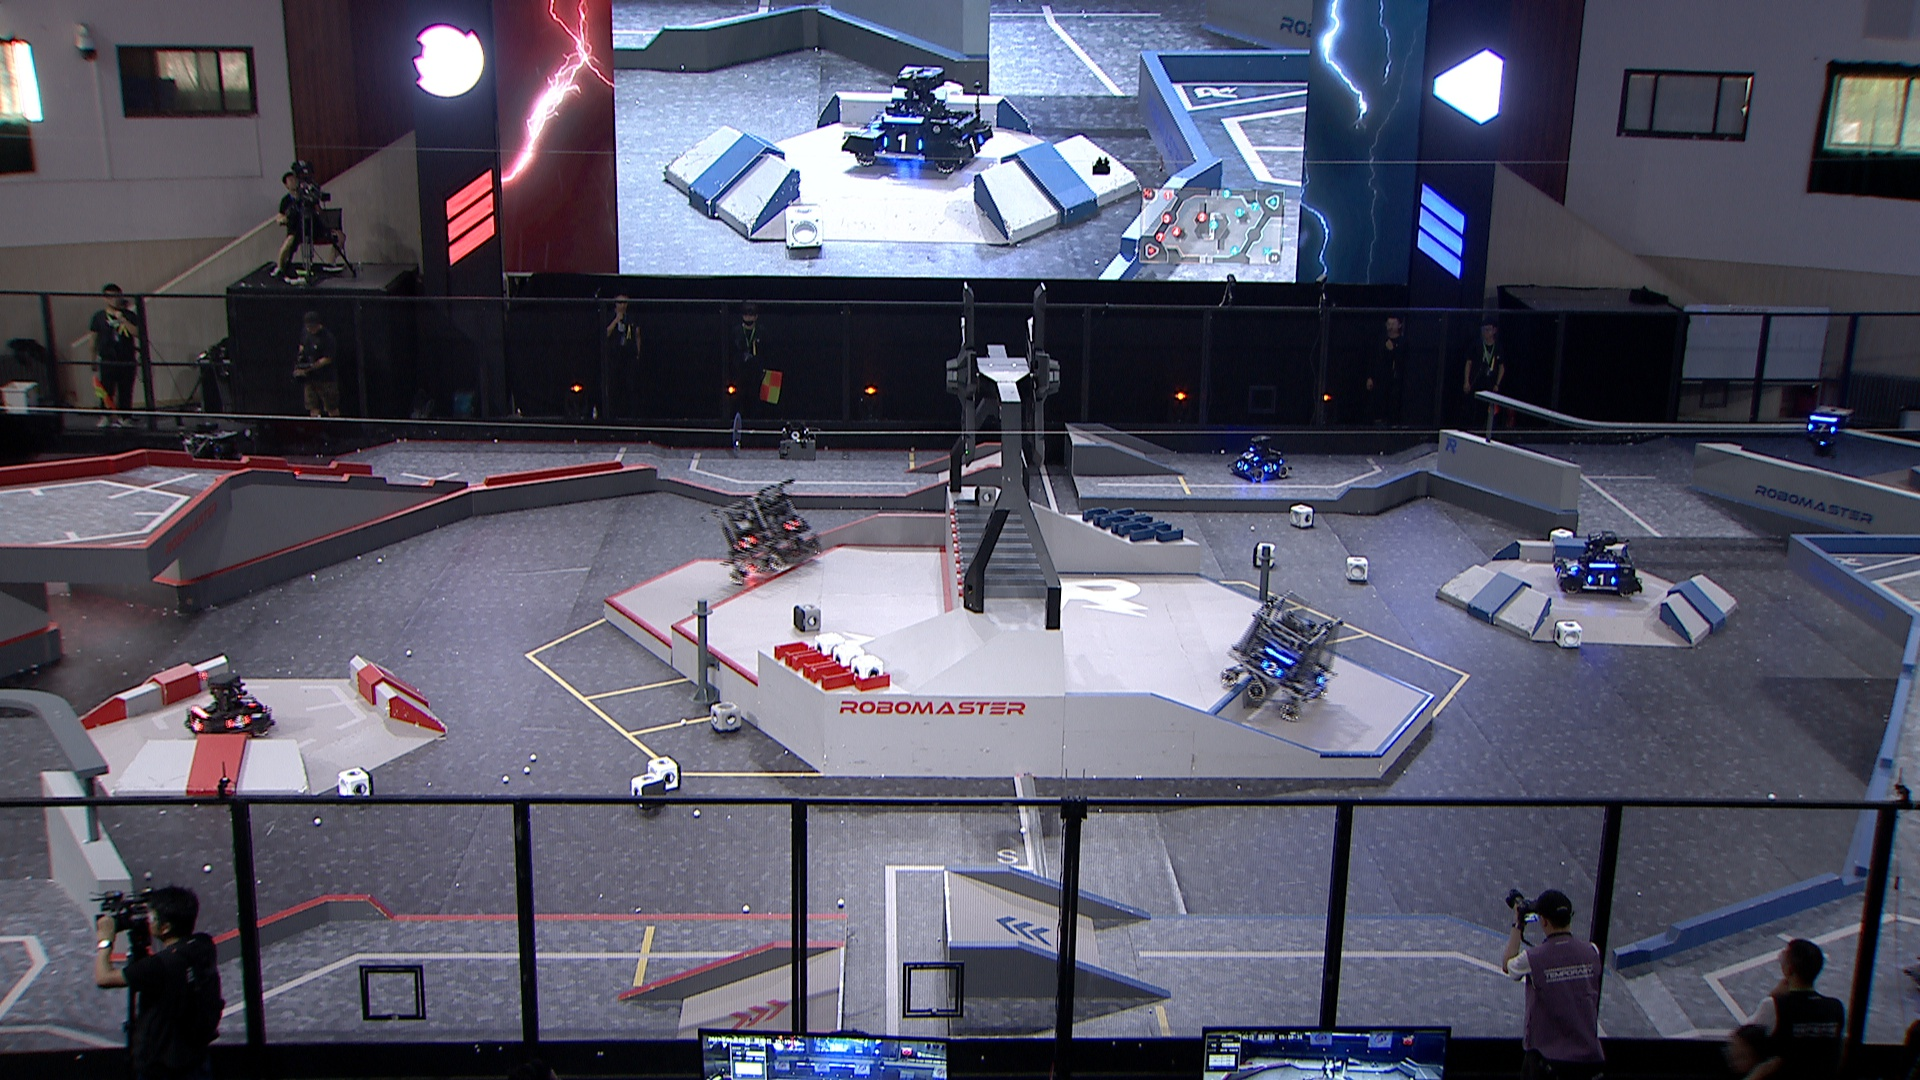armor: (1259, 657, 1284, 680), (225, 712, 251, 731), (1807, 423, 1840, 436), (1585, 574, 1618, 585), (737, 534, 757, 551), (782, 518, 803, 531), (189, 717, 206, 733), (237, 695, 257, 708), (1261, 462, 1280, 473), (1565, 559, 1581, 572), (1240, 452, 1259, 462), (1555, 566, 1567, 579), (1237, 462, 1251, 472)
car: (1221, 589, 1344, 723), (713, 480, 822, 588), (185, 670, 276, 745), (1551, 531, 1646, 600), (177, 419, 247, 493), (1226, 436, 1291, 483)
ignore: (844, 61, 996, 171)
watcher: (1803, 404, 1855, 462)
